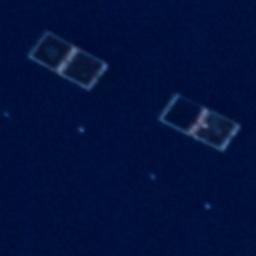square_solid: (25, 27, 81, 77), (155, 90, 211, 140), (54, 46, 112, 94), (188, 105, 242, 155)
